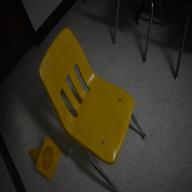cone: (28, 136, 62, 182)
